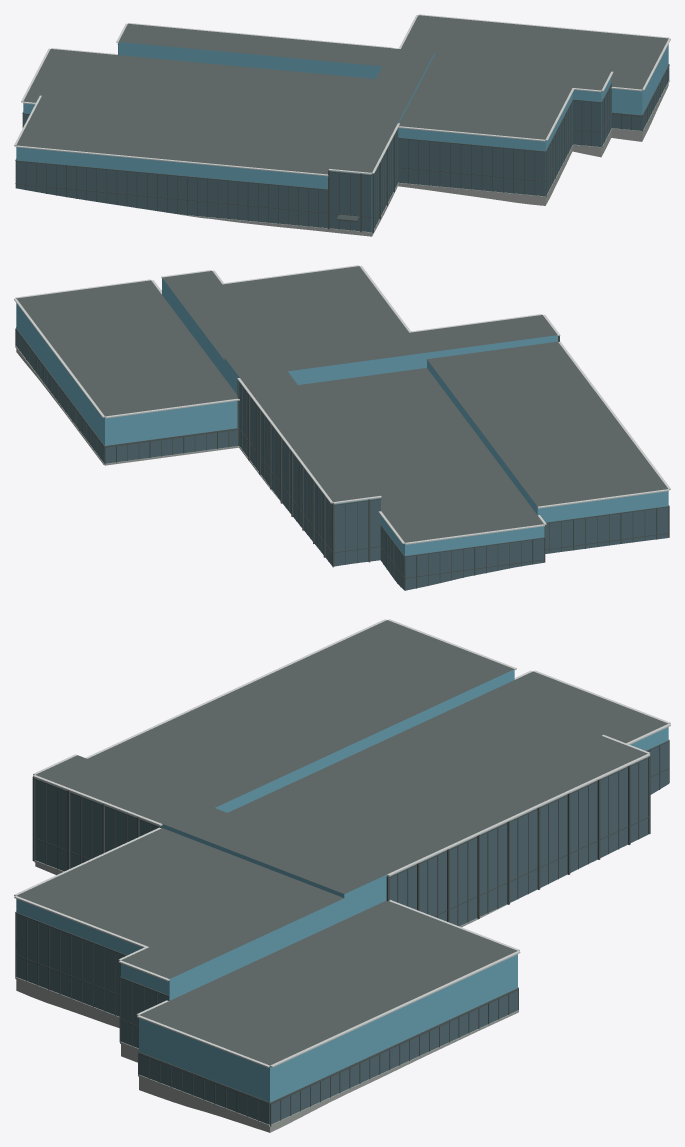
File: south-common-source-derived-preview-study.glb
The picture shows the model from 3 angles, top to bottom: view 1: azimuth 30°, elevation 25°; view 2: azimuth 150°, elevation 25°; view 3: azimuth 270°, elevation 25°; orthographic projection. The views are drawn at different scales.
Parts seen in each view (by area): view 1: South Common Flat roof membrane / approximate finish, South Common Approximate architectural glazing, South Common City construction palette, South Common Window frames / approximate subdivisions, South Common Reference white metal cladding, Illustrative natural-grade footing, South Common Plinth and paving; view 2: South Common Flat roof membrane / approximate finish, South Common Approximate architectural glazing, South Common City construction palette, South Common Window frames / approximate subdivisions, South Common Reference white metal cladding, South Common Plinth and paving; view 3: South Common Flat roof membrane / approximate finish, South Common Approximate architectural glazing, South Common City construction palette, South Common Window frames / approximate subdivisions, South Common Reference white metal cladding, Illustrative natural-grade footing, South Common Plinth and paving.
Boxes of the visible parts, left/top/right/bottom form: South Common Flat roof membrane / approximate finish: left=16, top=15, right=668, bottom=174; South Common Approximate architectural glazing: left=16, top=45, right=669, bottom=232; South Common City construction palette: left=16, top=42, right=668, bottom=232; South Common Window frames / approximate subdivisions: left=15, top=43, right=669, bottom=232; South Common Reference white metal cladding: left=14, top=14, right=670, bottom=176; Illustrative natural-grade footing: left=215, top=84, right=668, bottom=236; South Common Plinth and paving: left=179, top=80, right=669, bottom=233; South Common Flat roof membrane / approximate finish: left=16, top=266, right=667, bottom=542; South Common Approximate architectural glazing: left=16, top=330, right=668, bottom=590; South Common City construction palette: left=16, top=278, right=668, bottom=555; South Common Window frames / approximate subdivisions: left=15, top=290, right=669, bottom=590; South Common Reference white metal cladding: left=14, top=265, right=670, bottom=544; South Common Plinth and paving: left=15, top=346, right=282, bottom=503; South Common Flat roof membrane / approximate finish: left=16, top=620, right=668, bottom=1065; South Common Approximate architectural glazing: left=16, top=742, right=668, bottom=1124; South Common City construction palette: left=16, top=669, right=668, bottom=1126; South Common Window frames / approximate subdivisions: left=15, top=740, right=669, bottom=1125; South Common Reference white metal cladding: left=14, top=619, right=670, bottom=1067; Illustrative natural-grade footing: left=16, top=863, right=469, bottom=1132; South Common Plinth and paving: left=15, top=860, right=518, bottom=1126.
Size of the model in its own units: 136 by 14.86 by 87.64.
